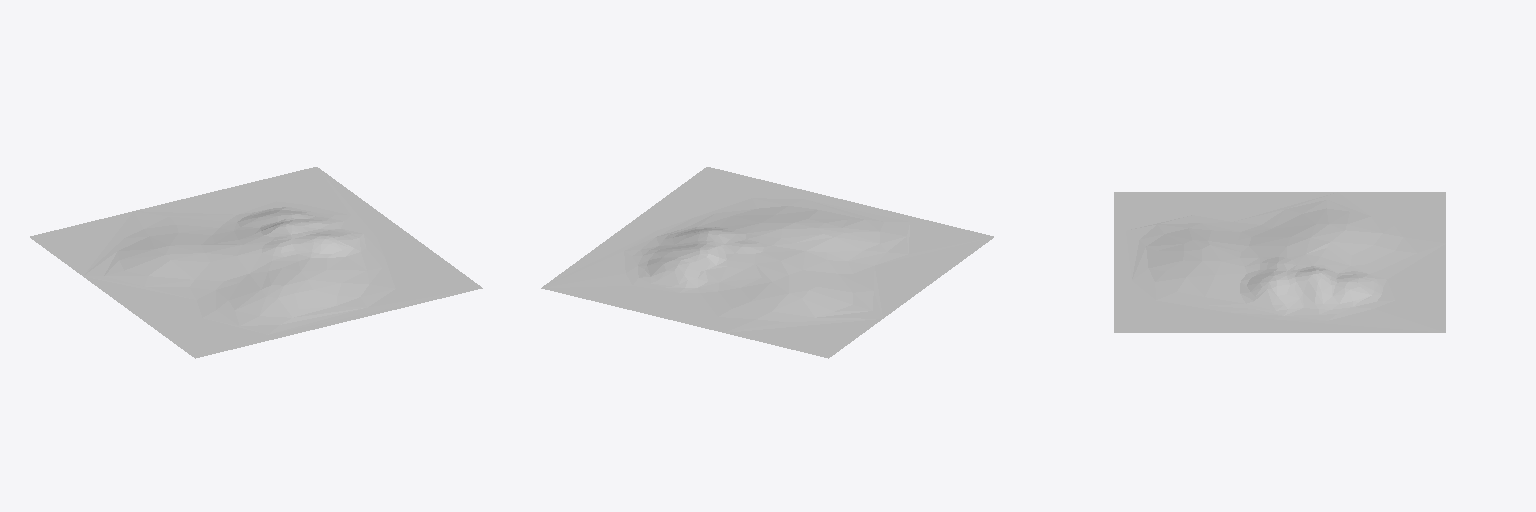
Rendered from PlainTile0010.obj.
3 views of the same model, side by side, from view 1: azimuth 30°, elevation 25°; view 2: azimuth 150°, elevation 25°; view 3: azimuth 270°, elevation 25° (orthographic).
Visible parts, largest first — view 1: Tile; view 2: Tile; view 3: Tile.
Part boxes in pixels (x1,y1,x2,y2): Tile: (30, 167, 482, 358); Tile: (541, 167, 993, 358); Tile: (1114, 192, 1445, 332).
Bounding box in the file's own units: 500 × 21.74 × 500.